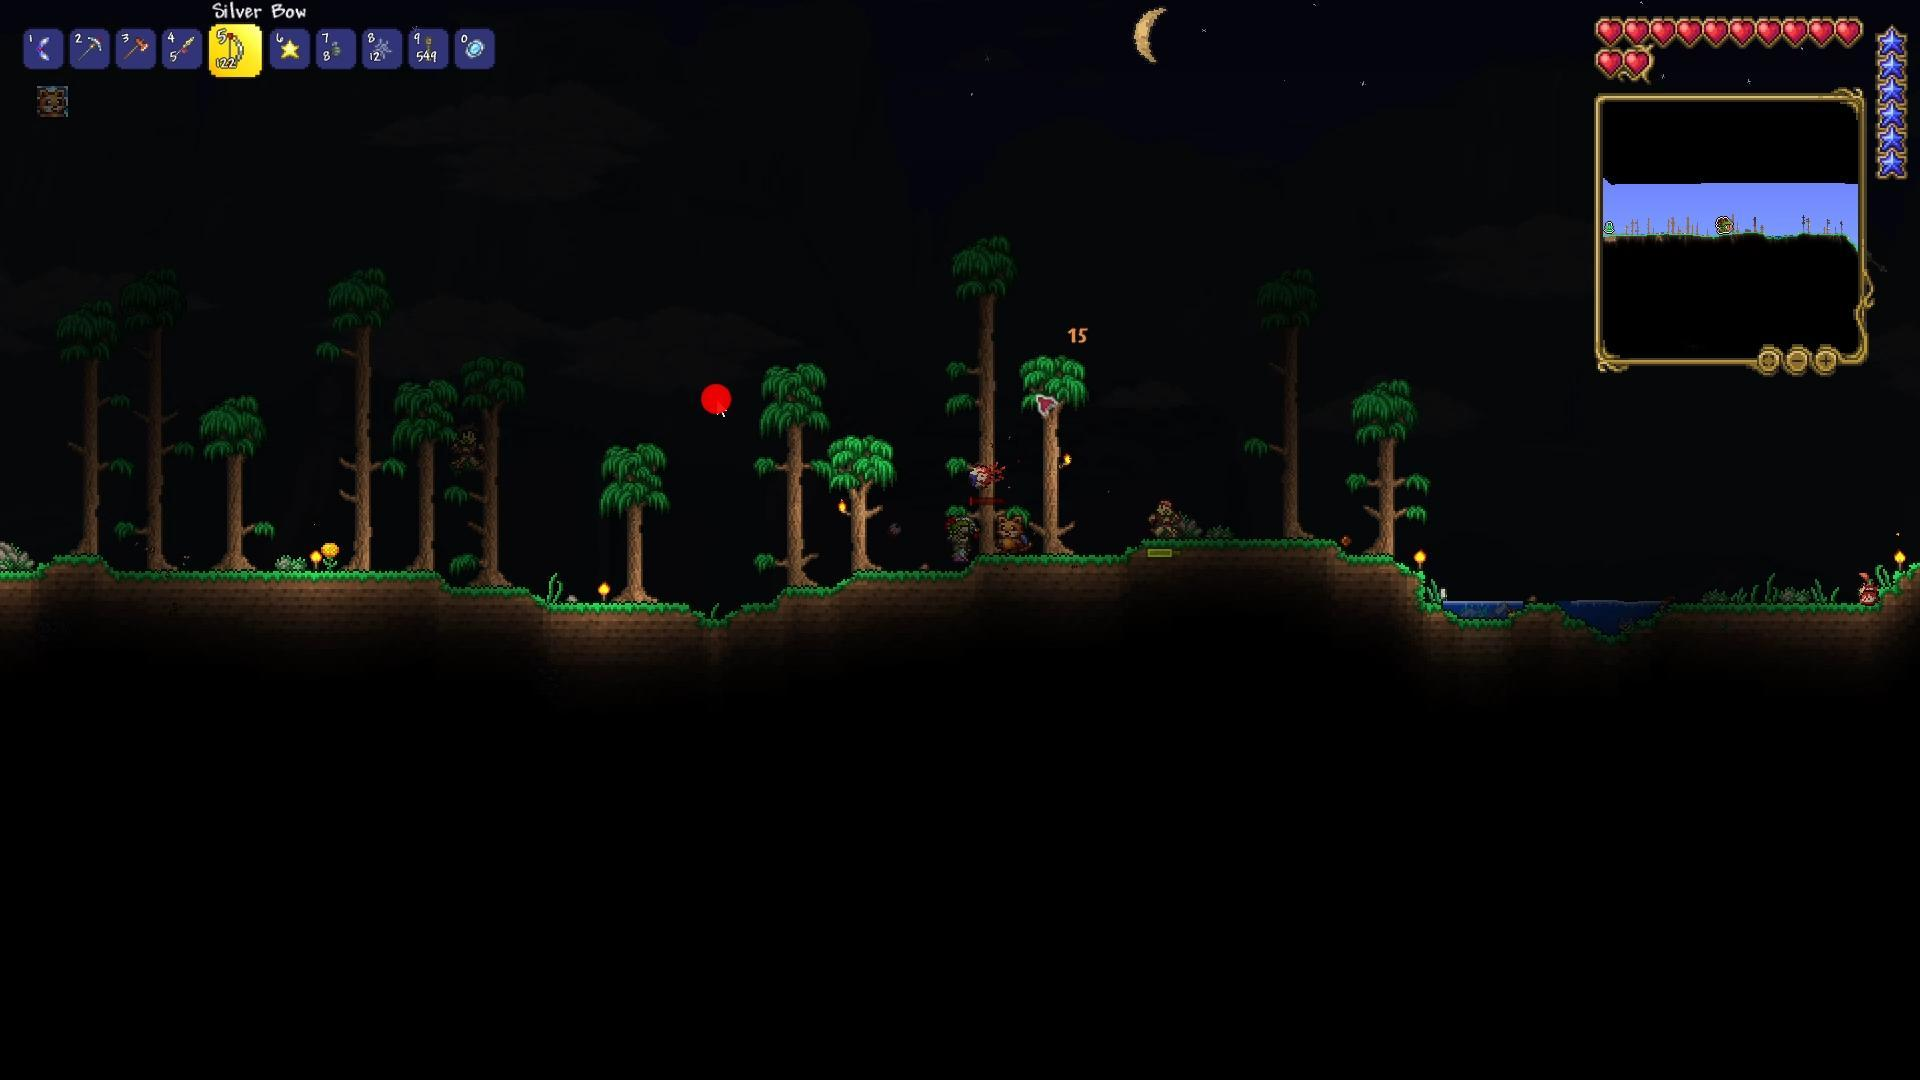dirt: (1724, 542, 1913, 646), (113, 559, 436, 607), (1274, 534, 1447, 617), (733, 568, 947, 633), (977, 543, 1121, 579), (430, 570, 533, 618), (545, 592, 694, 624)
